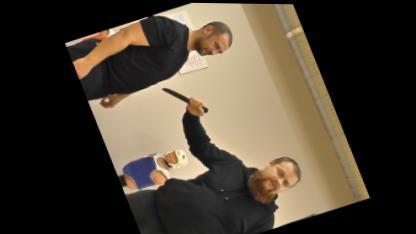knife: (156, 72, 209, 122)
